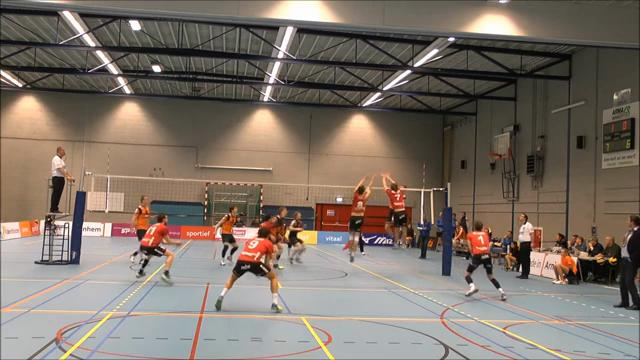attacco: (384, 184, 414, 244)
muro: (377, 166, 412, 255), (344, 170, 376, 265)
